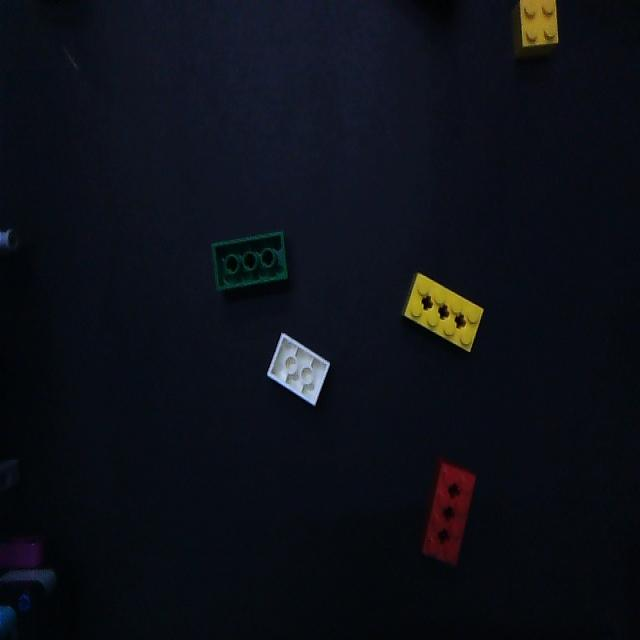lego_brick: (403, 272, 482, 349), (422, 460, 475, 564), (267, 333, 329, 405), (213, 232, 287, 289), (516, 0, 556, 53)
